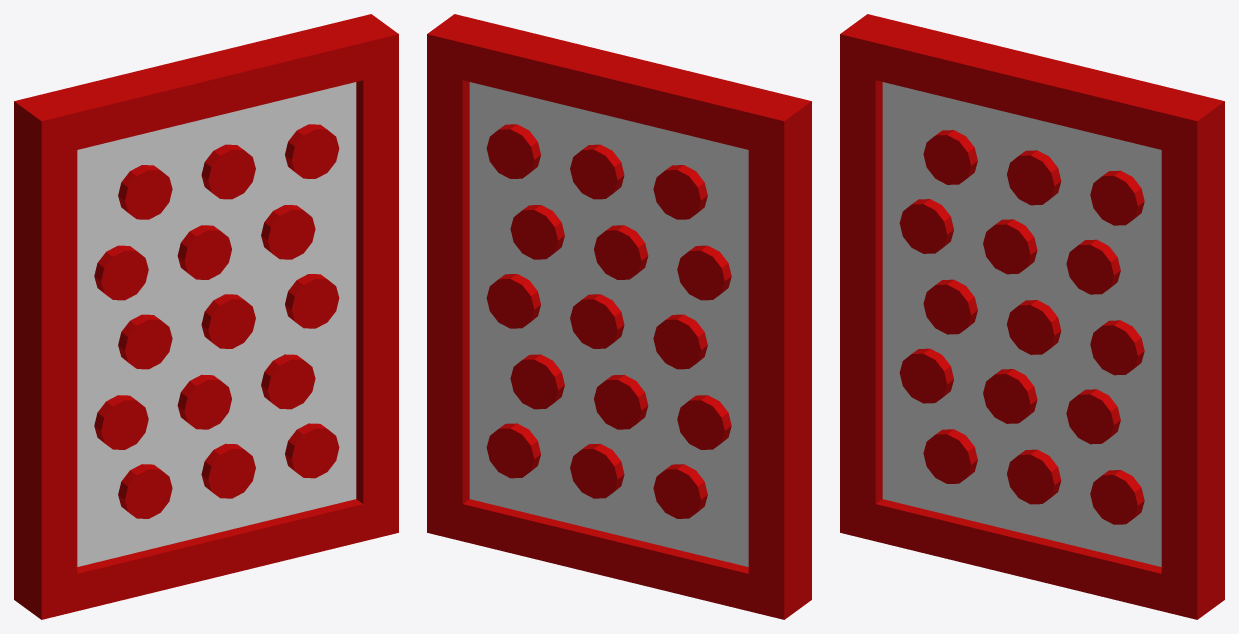
File: TargetDots.fbx
3 views of the same model, side by side, from view 1: azimuth 30°, elevation 25°; view 2: azimuth 150°, elevation 25°; view 3: azimuth 330°, elevation 25° (orthographic).
Visible parts, largest first — view 1: TargetDots; view 2: TargetDots; view 3: TargetDots.
Part boxes in pixels (<box>): TargetDots: <box>14,14,398,619</box>; TargetDots: <box>427,14,811,619</box>; TargetDots: <box>840,14,1224,619</box>.
Size of the model in its own units: 75 by 100 by 10.
